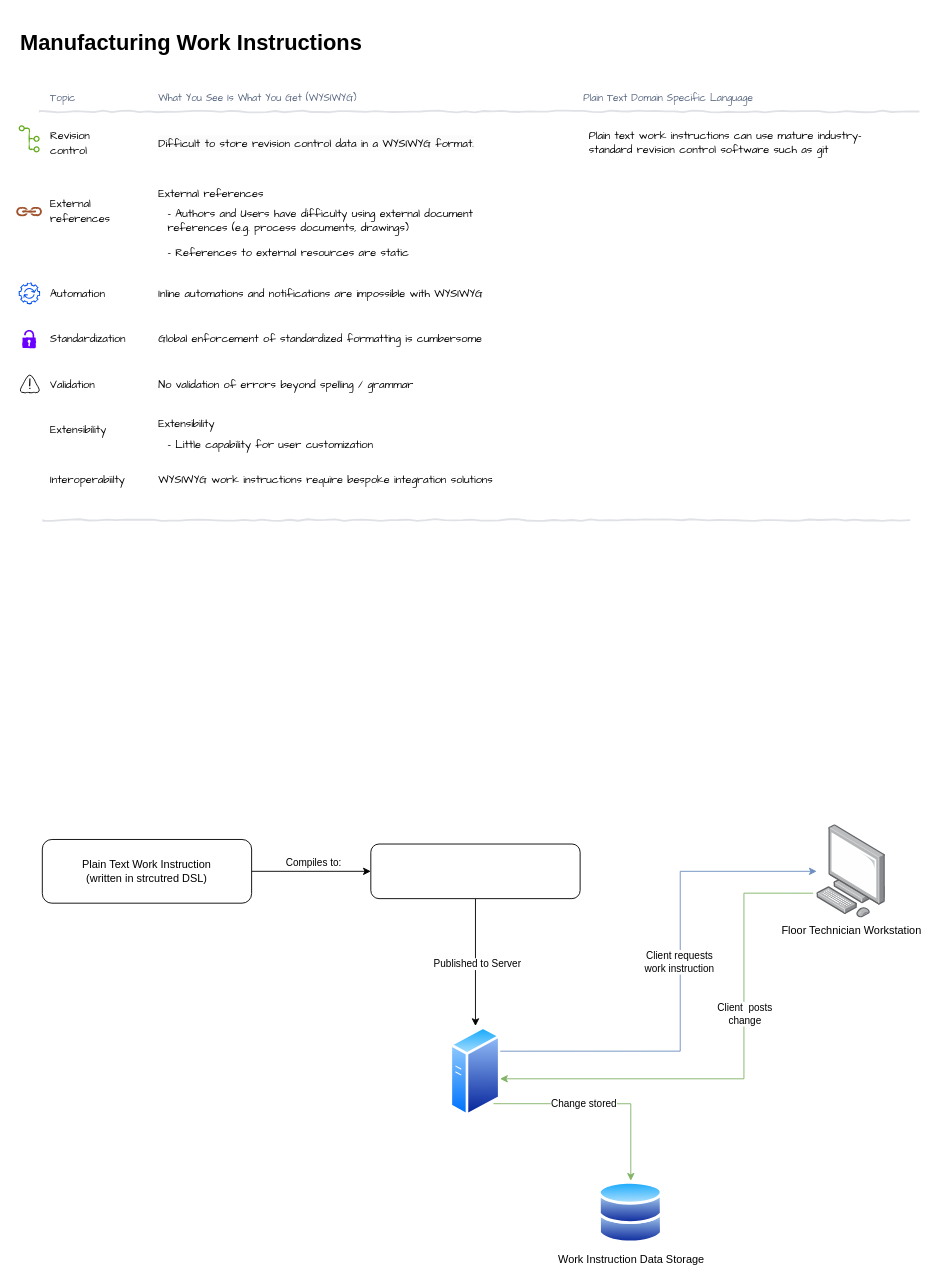
This 936x1281 diagram has some shape labels left out. Here are the shapes that lost their labels. From the top down, the centre of each, then its label:
At [475,871]: "Javascript Web Application".
At [475,1071]: "Web Server".
